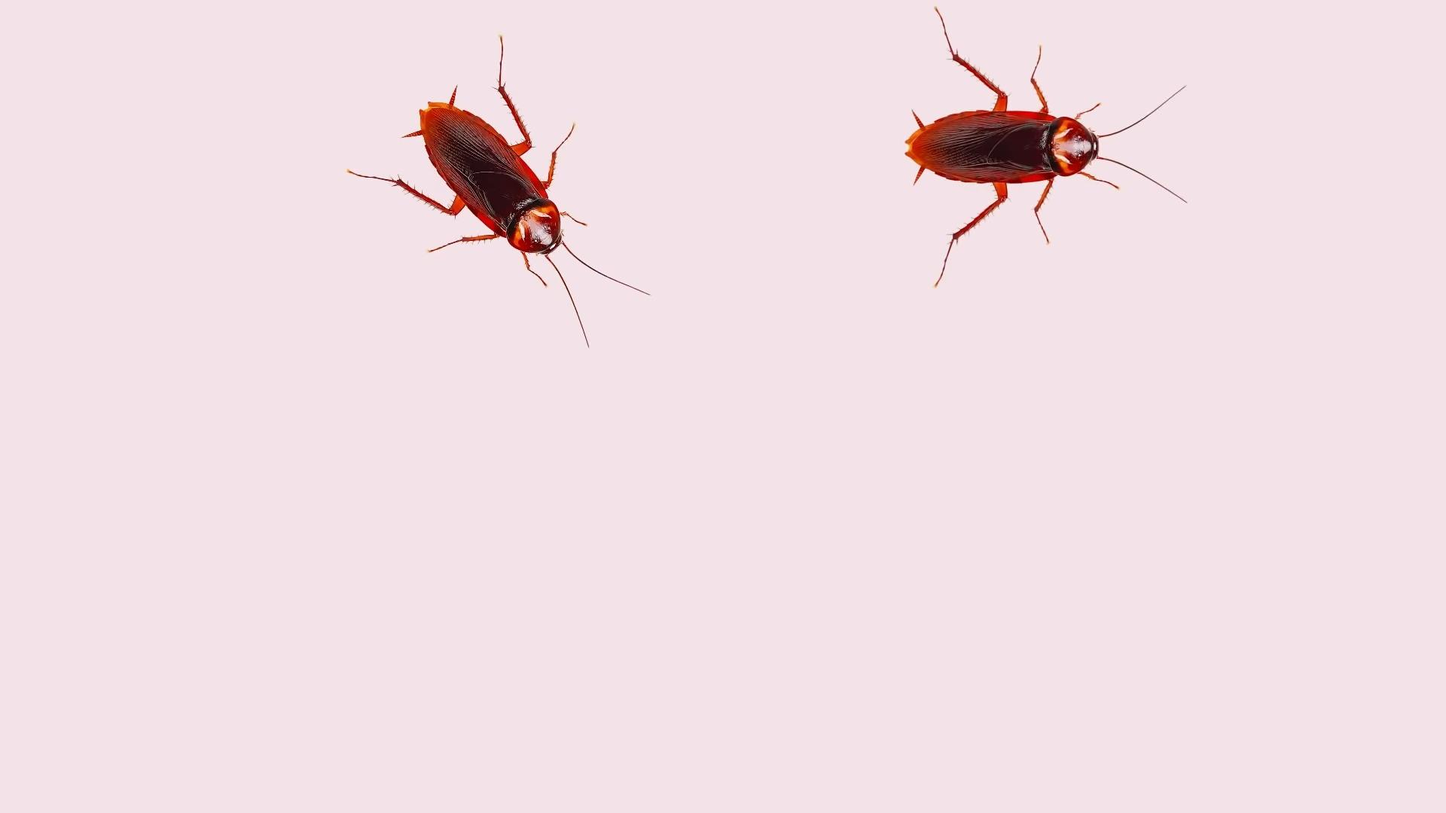cockroach: (390, 59, 596, 285), (892, 70, 1135, 232)
